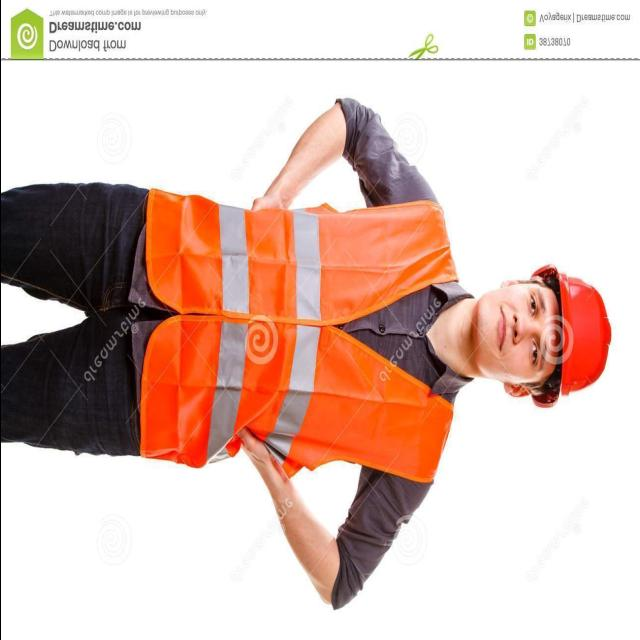helmet: (530, 254, 610, 406)
